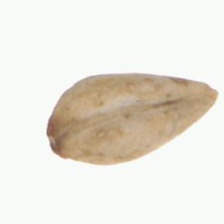L1: (43, 120, 67, 160), (194, 80, 219, 107)
L2: (46, 74, 219, 166)
